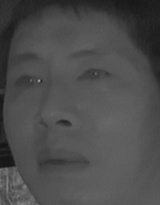eye: (75, 65, 112, 89), (11, 73, 44, 91)
mouth: (32, 143, 92, 178)
